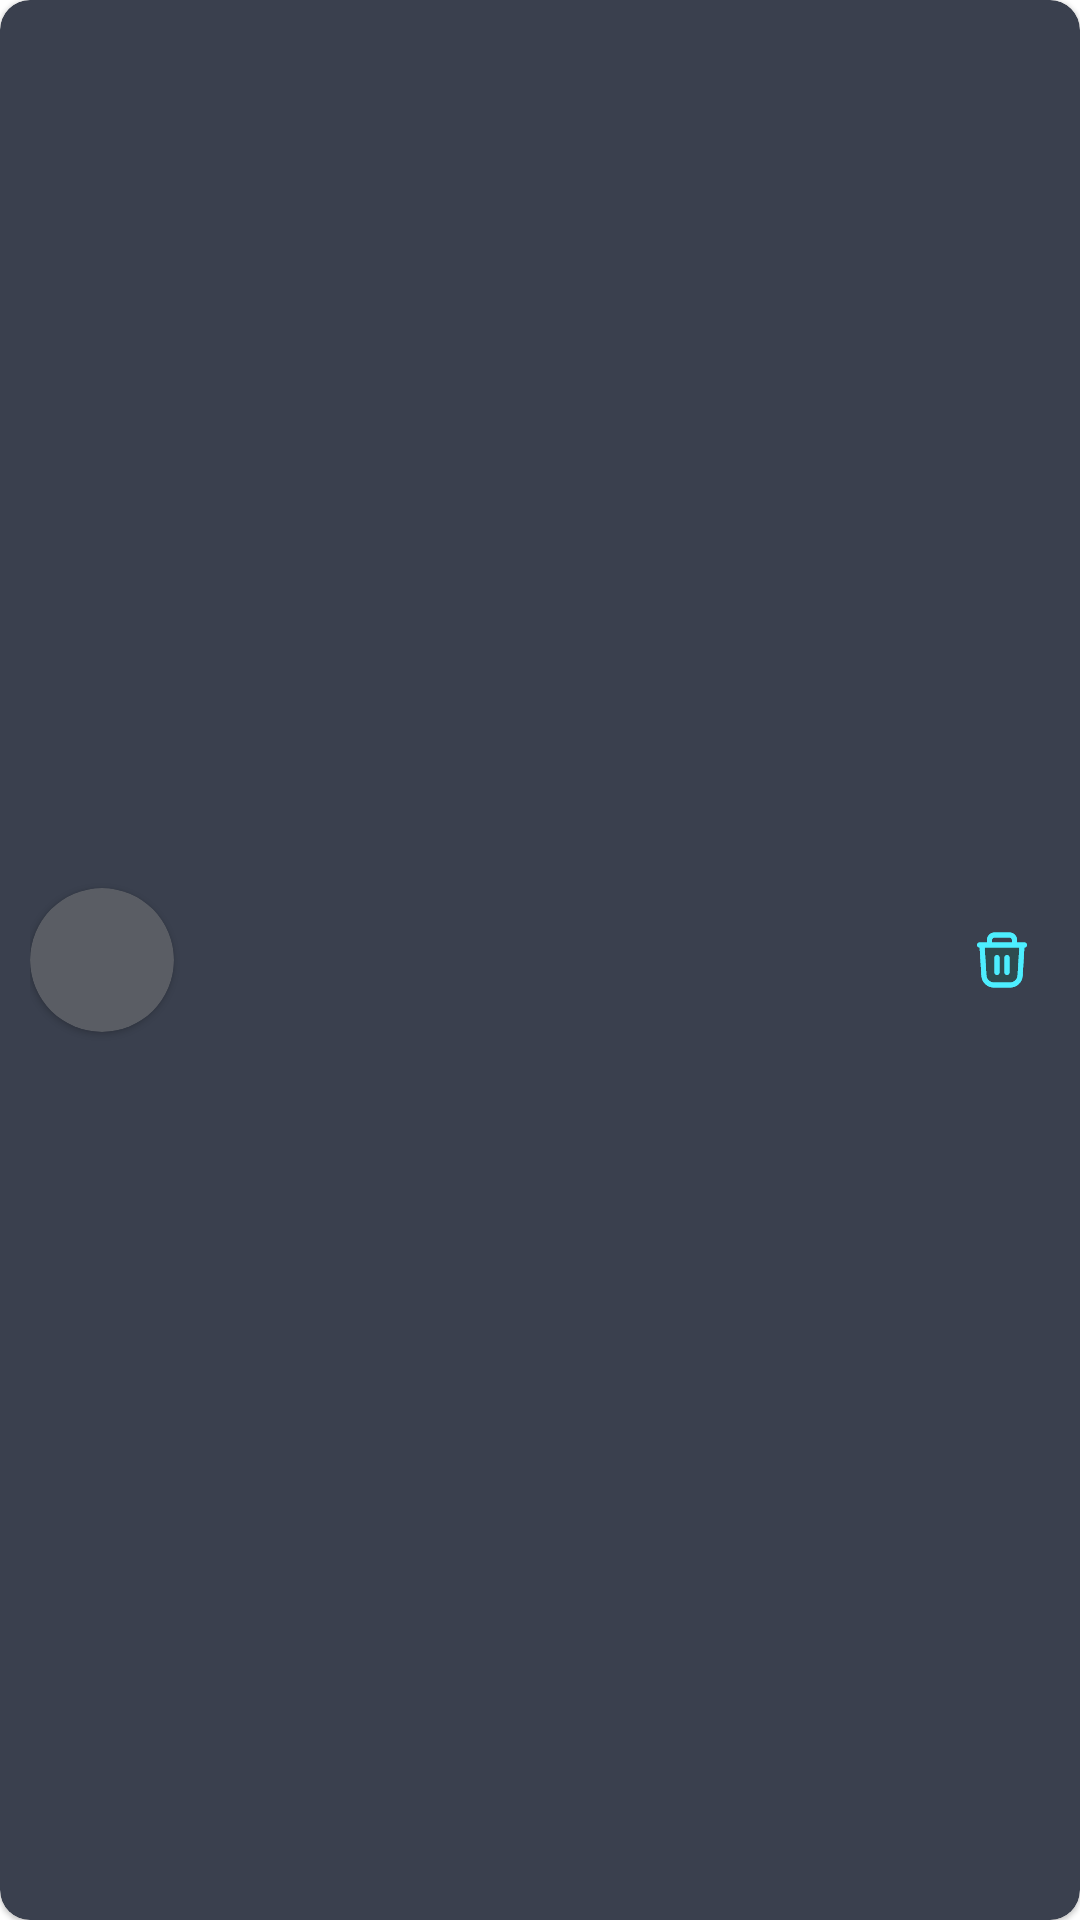

Screen size 1080px×1920px. Icon name, then its box in pixels as (left=x1, top=y1, right=x2, bottom=y2):
delete: (left=977, top=932, right=1027, bottom=988)
